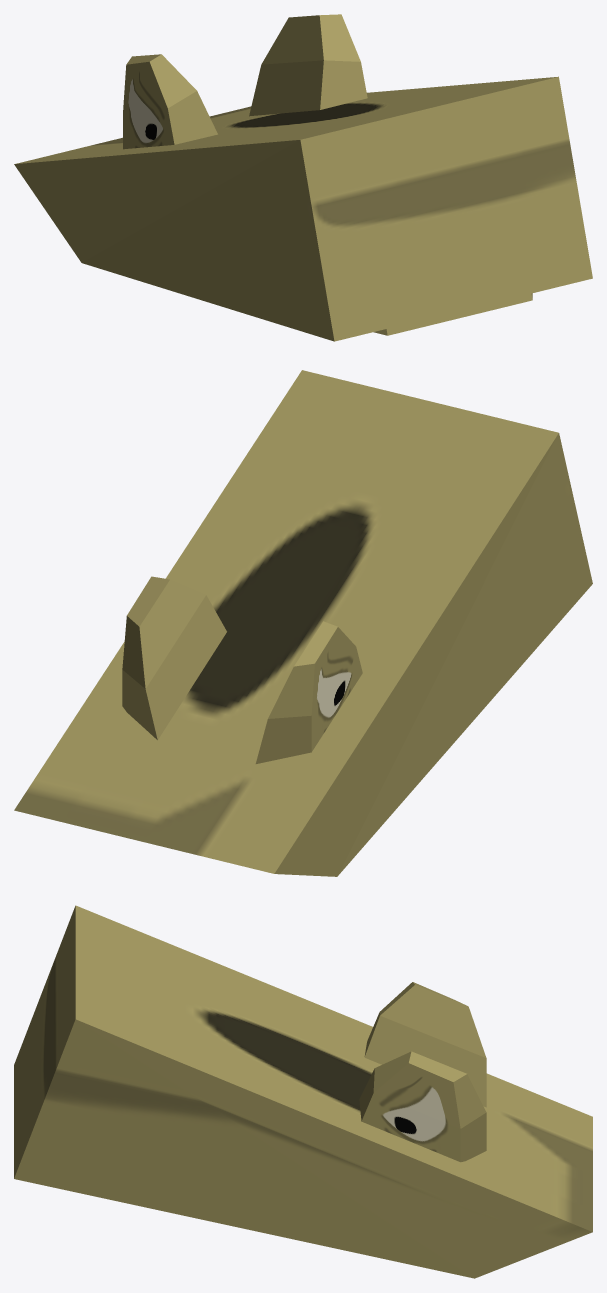
Rendered from wedgie_fbx.fbx.
3 views of the same model, one above another, from view 1: azimuth 30°, elevation 25°; view 2: azimuth 150°, elevation 25°; view 3: azimuth 270°, elevation 25° (orthographic). The views are drawn at different scales.
Visible parts, largest first — view 1: col, wedgie; view 2: col, wedgie; view 3: col, wedgie.
Boxes of the visible parts, box(x1,y1,x2,y2) form: col: box(14, 76, 592, 341); wedgie: box(123, 14, 532, 335); col: box(14, 370, 592, 876); wedgie: box(122, 576, 362, 763); col: box(14, 905, 592, 1278); wedgie: box(359, 982, 486, 1162).
Bounding box in the file's own units: 18.05 × 18.81 × 38.27.
